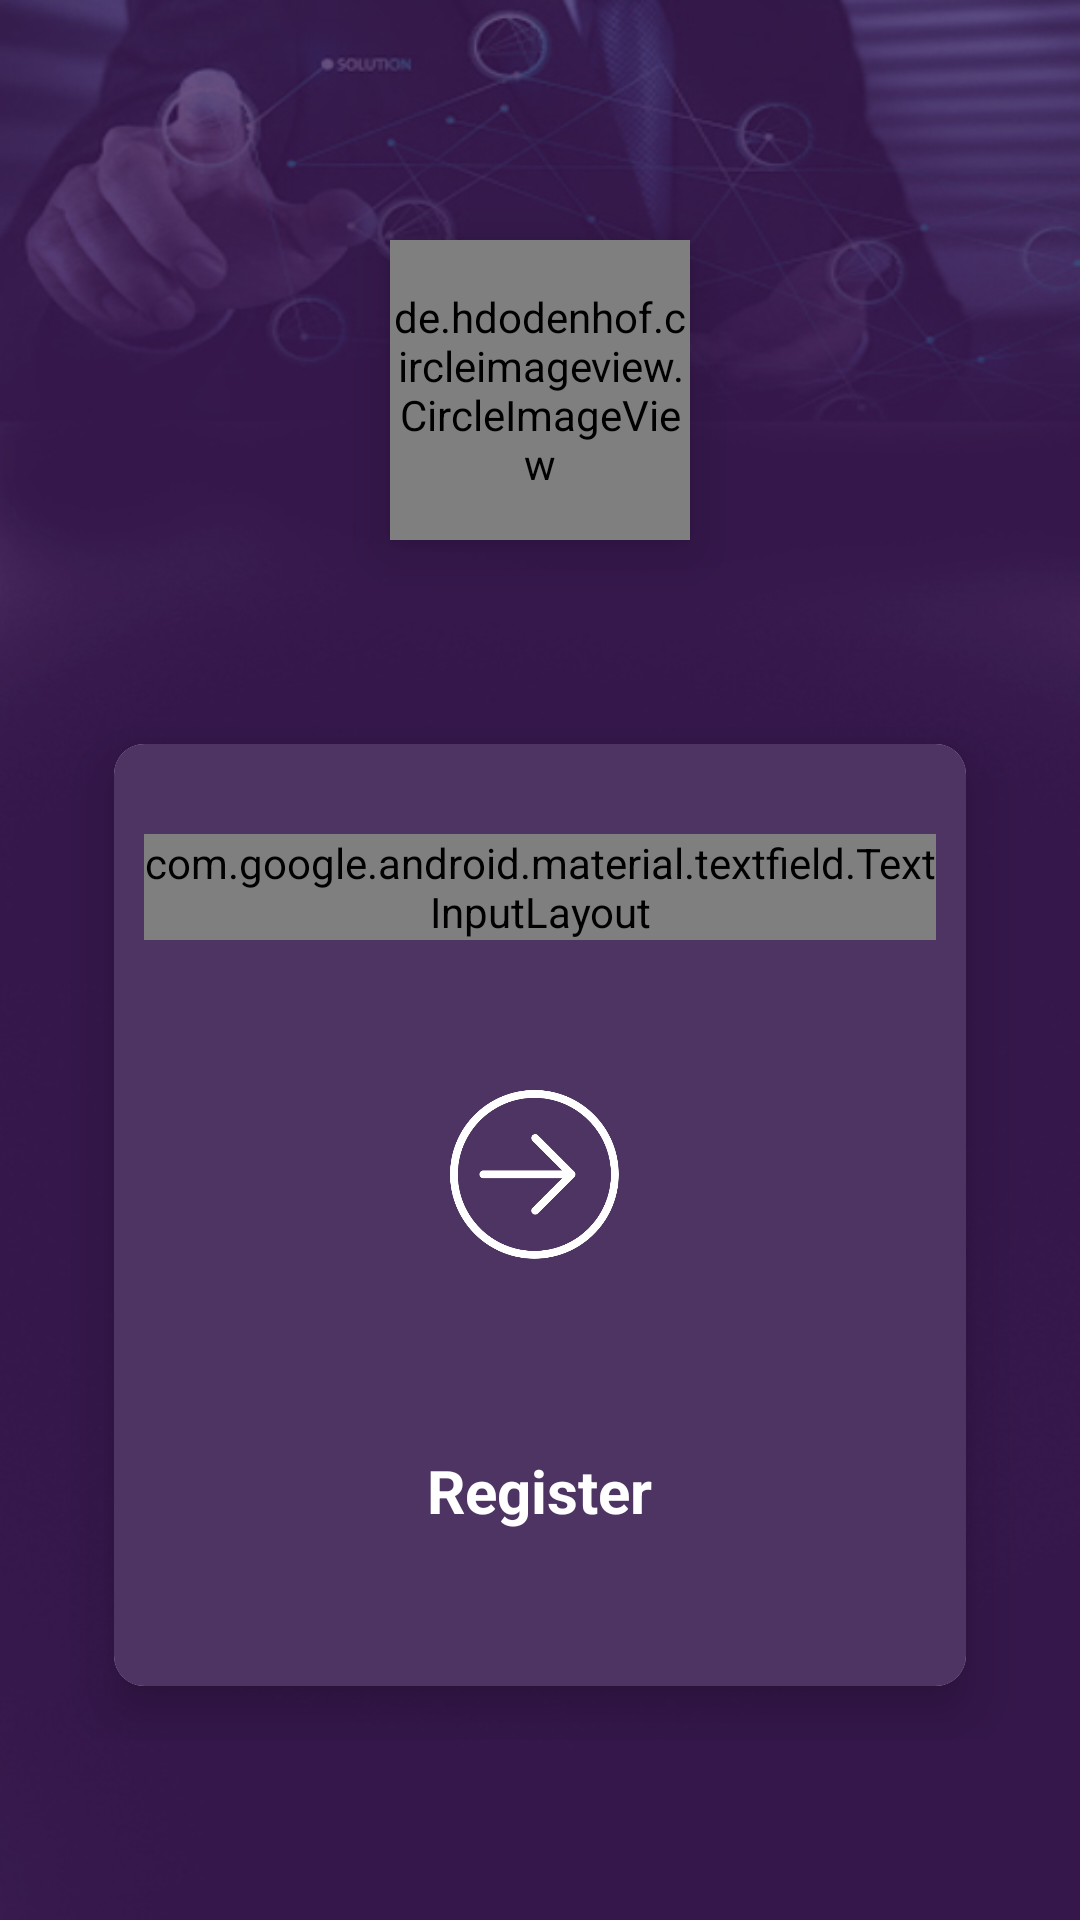

Icons on this 1080 × 1920 Android screen, each with the point to tap as (x=x, y=y):
right: (x=534, y=1174)
